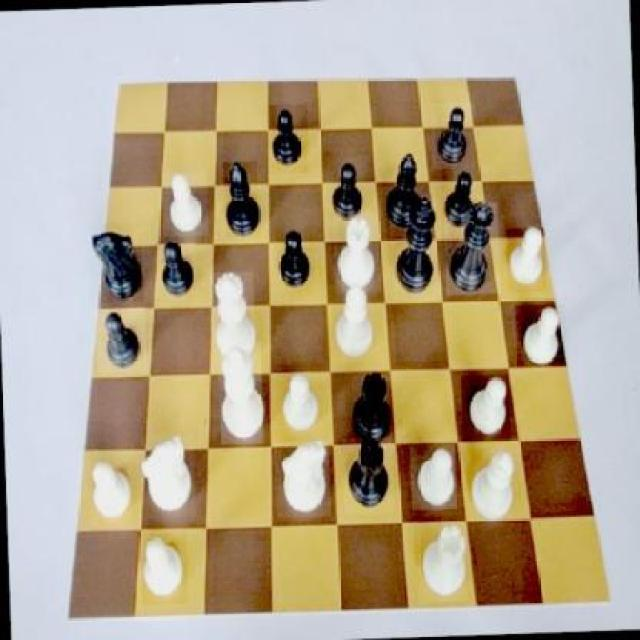bishop: (380, 151, 430, 234), (223, 160, 260, 237)
black-bishop: (388, 194, 438, 301)
black-king: (86, 222, 144, 302)
black-knight: (95, 308, 148, 374), (431, 102, 477, 169), (326, 156, 370, 226), (268, 104, 308, 174), (437, 168, 481, 228), (274, 228, 313, 294), (156, 243, 197, 300)
black-pawn: (443, 202, 500, 294)
black-queen: (343, 437, 395, 515), (346, 372, 394, 448)
black-rook: (466, 444, 520, 532), (329, 286, 380, 363)
white-bishop: (217, 343, 263, 445)
white-king: (140, 434, 196, 518), (274, 440, 331, 518)
white-knight: (84, 452, 138, 530), (276, 363, 324, 446), (140, 530, 189, 604), (460, 374, 510, 444), (515, 304, 568, 368), (410, 444, 458, 510), (162, 171, 208, 237), (506, 229, 546, 294)
white-pawn: (209, 273, 256, 372)
white-queen: (417, 522, 468, 602), (332, 211, 380, 293)
